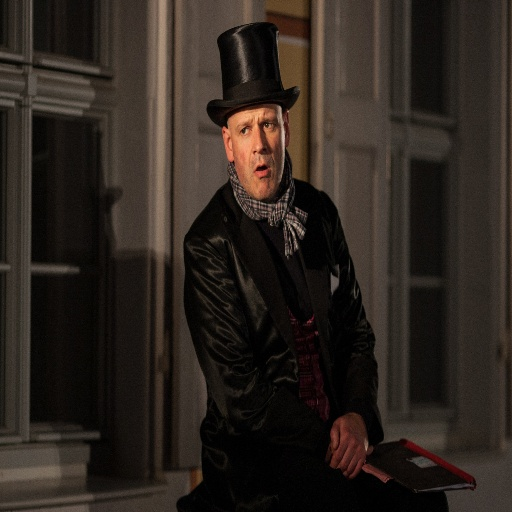hand: (328, 411, 370, 479)
